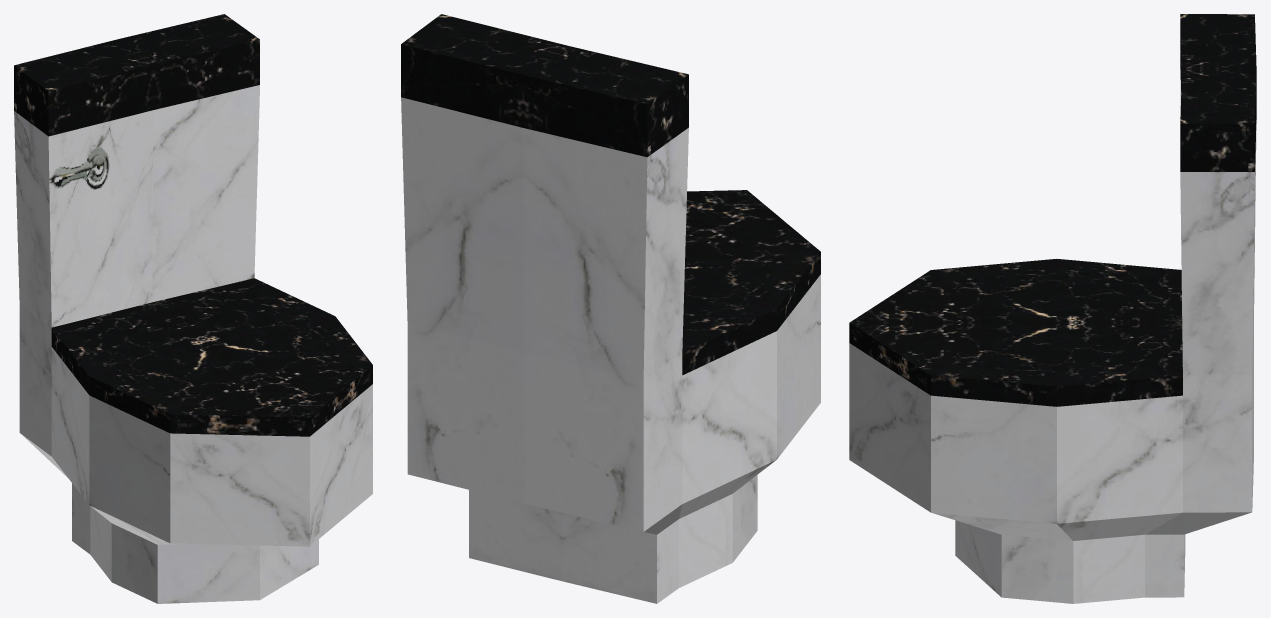
File: nicetoilet.gltf
The picture shows the model from 3 angles, left to right: view 1: azimuth 30°, elevation 25°; view 2: azimuth 150°, elevation 25°; view 3: azimuth 270°, elevation 25°; orthographic projection. The views are drawn at different scales.
Parts seen in each view (by area): view 1: Cylinder; view 2: Cylinder; view 3: Cylinder.
Boxes of the visible parts, x1,y1,x2,y2 form: Cylinder: [14, 14, 372, 603]; Cylinder: [401, 14, 820, 603]; Cylinder: [849, 14, 1256, 603].
Bounding box in the file's own units: 1.6 × 2.84 × 2.15.
Materials: 1 (1 with a texture image).
